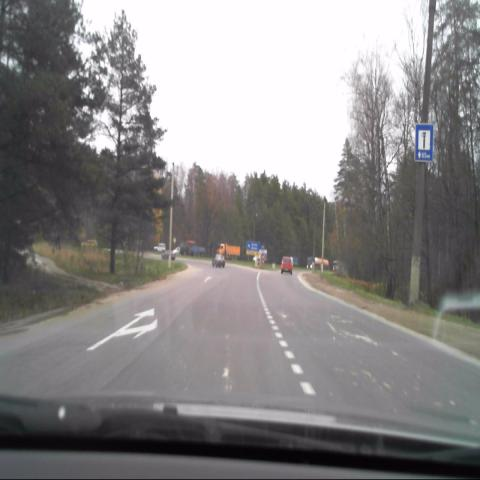7_4: (415, 121, 434, 164)
